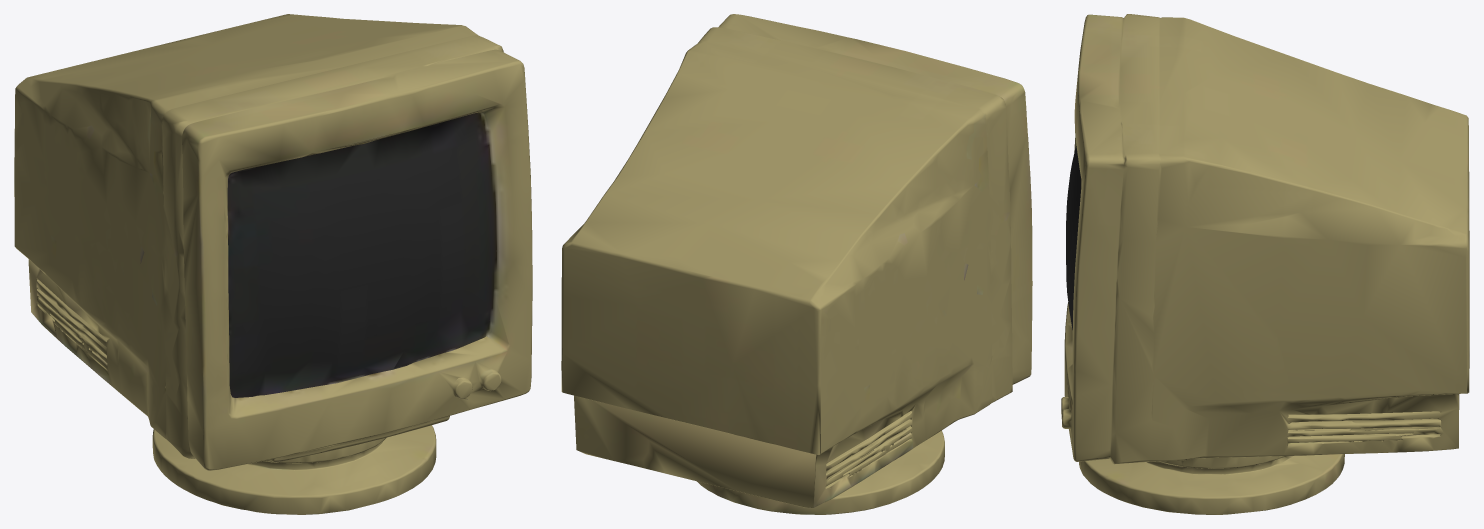
File: crt_monitor_beige.glb
The picture shows the model from 3 angles, left to right: view 1: azimuth 30°, elevation 25°; view 2: azimuth 150°, elevation 25°; view 3: azimuth 270°, elevation 25°; orthographic projection. The views are drawn at different scales.
Parts seen in each view (by area): view 1: geometry_0; view 2: geometry_0; view 3: geometry_0.
Part boxes in pixels (x1,y1,x2,y2): geometry_0: [14, 14, 532, 514]; geometry_0: [561, 14, 1032, 514]; geometry_0: [1061, 14, 1469, 514].
Size of the model in its own units: 0.8555 by 1 by 0.9866.
1 material, 1 textured.
